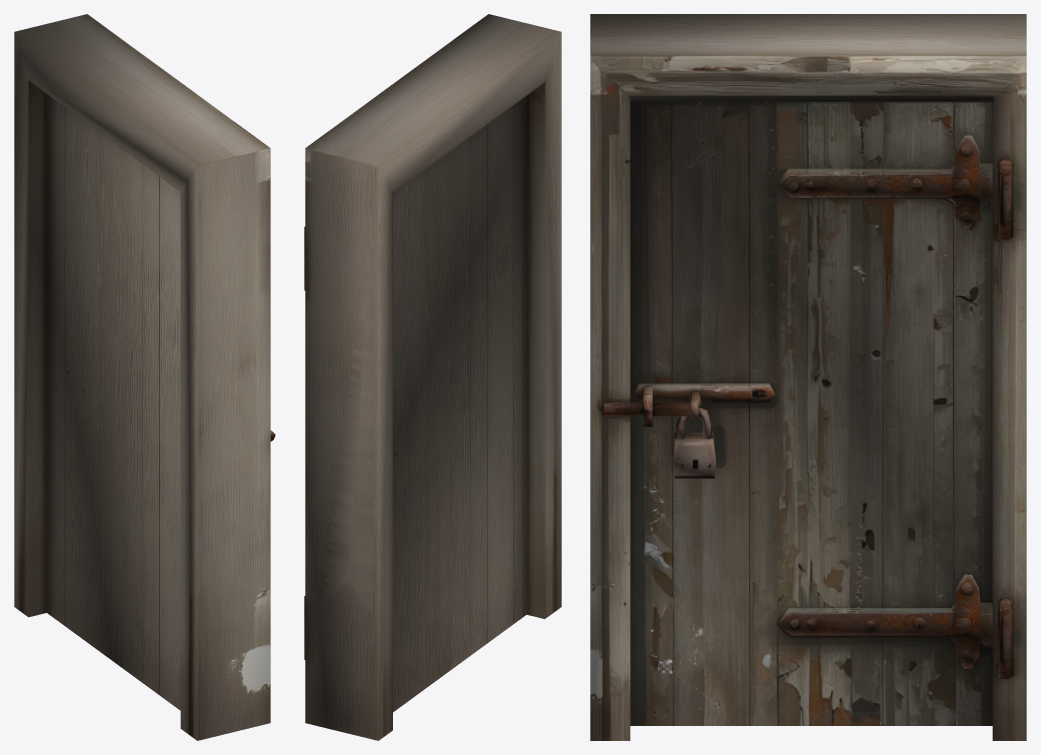
File: Arch_Door_StorageClean.glb
3 renders of one model, left to right at view 1: azimuth 30°, elevation 25°; view 2: azimuth 150°, elevation 25°; view 3: azimuth 270°, elevation 25°, orthographic. The views are drawn at different scales.
Parts seen in each view (by area): view 1: tripo_node_45f28ef1-3135-4fff-8e11-5b6d520791a4; view 2: tripo_node_45f28ef1-3135-4fff-8e11-5b6d520791a4; view 3: tripo_node_45f28ef1-3135-4fff-8e11-5b6d520791a4.
Boxes of the visible parts, box(x1,y1,x2,y2) form: tripo_node_45f28ef1-3135-4fff-8e11-5b6d520791a4: box(14, 14, 275, 740); tripo_node_45f28ef1-3135-4fff-8e11-5b6d520791a4: box(304, 14, 561, 740); tripo_node_45f28ef1-3135-4fff-8e11-5b6d520791a4: box(590, 14, 1026, 740).
Bounding box in the file's own units: 0.3329 × 2.1 × 1.21.
1 material, 1 textured.
